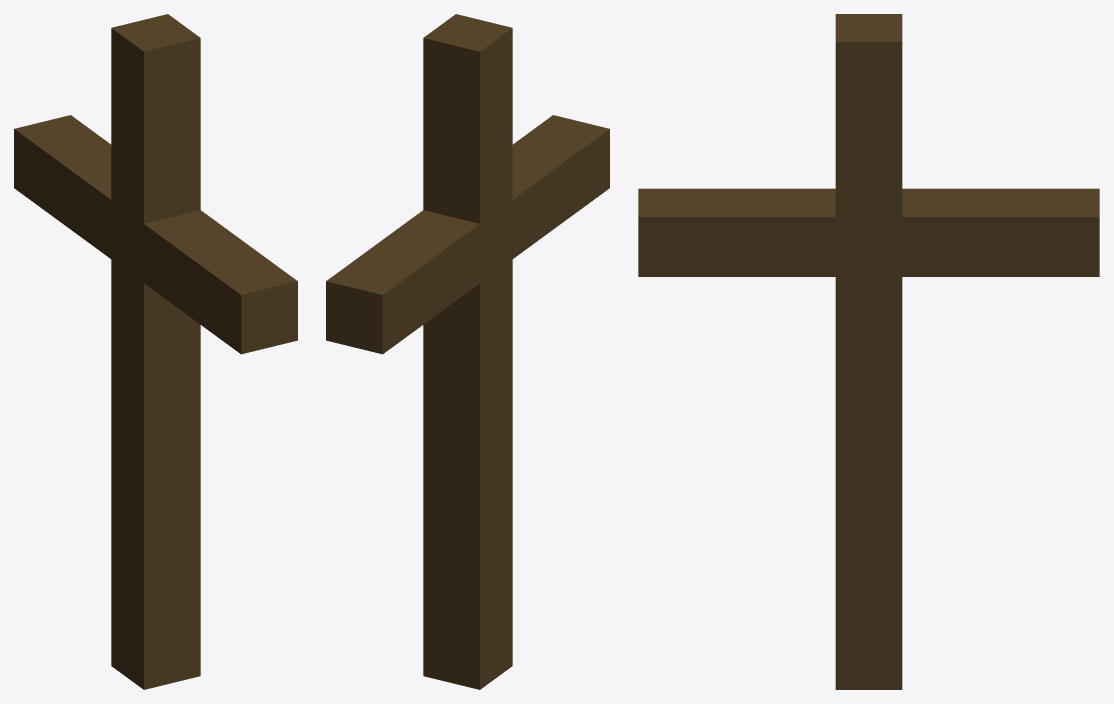
The model's file is krzyż.fbx.
The picture shows the model from 3 angles, left to right: view 1: azimuth 30°, elevation 25°; view 2: azimuth 150°, elevation 25°; view 3: azimuth 270°, elevation 25°; orthographic projection.
Visible parts, largest first — view 1: Cube; view 2: Cube; view 3: Cube.
Boxes of the visible parts, <box> form: Cube: <box>14,14,297,689</box>; Cube: <box>326,14,609,689</box>; Cube: <box>638,14,1099,689</box>.
Size of the model in its own units: 46.14 by 496 by 320.
